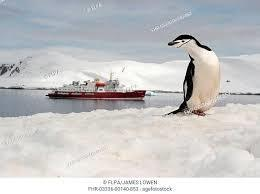chinstrap: (148, 28, 228, 123)
